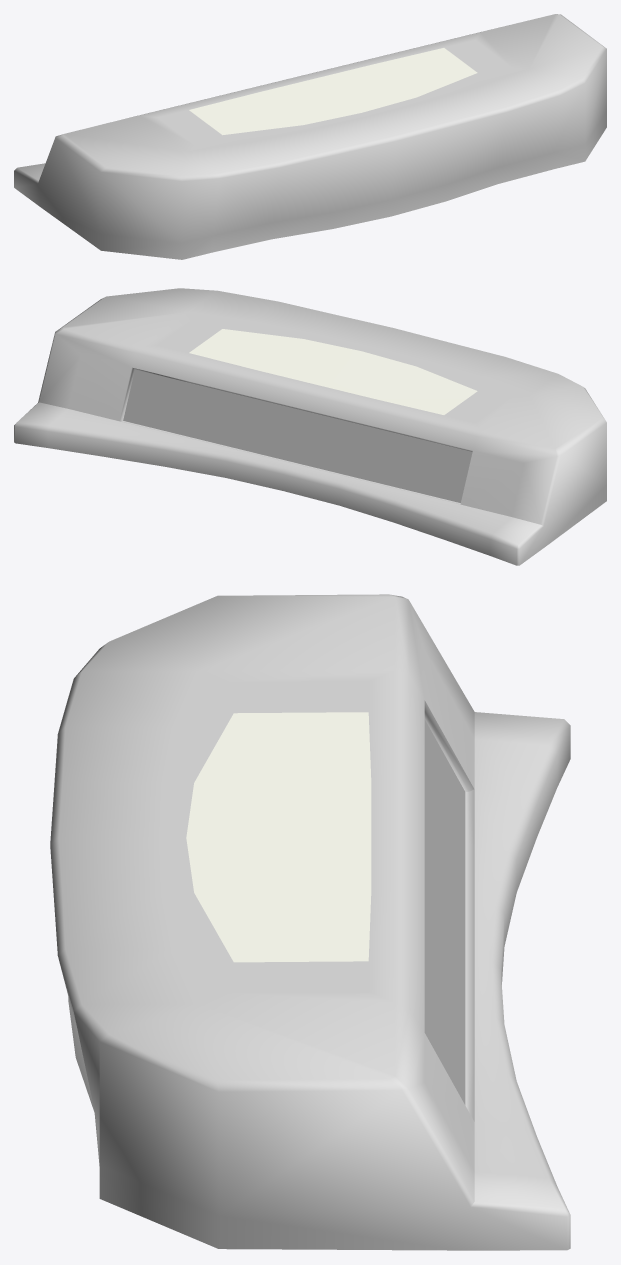
Rendered from menu_base.glb.
3 views of the same model, one above another, from view 1: azimuth 30°, elevation 25°; view 2: azimuth 150°, elevation 25°; view 3: azimuth 270°, elevation 25° (orthographic). The views are drawn at different scales.
Visible parts, largest first — view 1: menu_base; view 2: menu_base; view 3: menu_base.
Boxes of the visible parts, bbox=[...] form: menu_base: bbox=[14, 14, 606, 259]; menu_base: bbox=[14, 288, 606, 565]; menu_base: bbox=[50, 594, 570, 1250].
Size of what is drawn, in the model's own units: 1.43 by 0.2253 by 0.6364.
2 materials, 2 textured.
